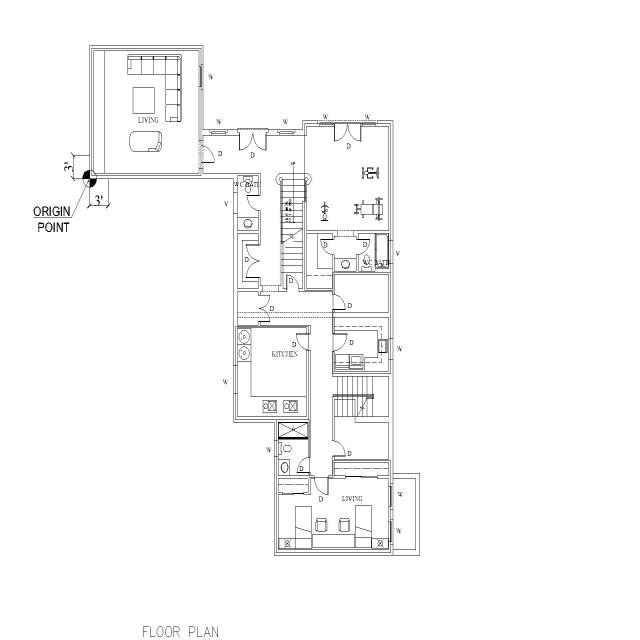Column: (174, 157, 197, 169)
Door: (211, 419, 226, 439), (138, 400, 144, 422), (188, 440, 208, 446), (226, 219, 245, 225), (322, 273, 341, 279), (252, 168, 256, 196), (350, 245, 354, 273), (181, 376, 185, 401), (460, 300, 464, 325), (296, 515, 318, 519), (272, 274, 292, 278), (185, 370, 204, 374), (181, 326, 184, 348), (167, 282, 170, 304), (266, 428, 284, 431), (196, 274, 198, 296)
Opening: (278, 377, 336, 389), (326, 460, 334, 512), (288, 428, 326, 438), (174, 210, 197, 222)
Sliding Door: (144, 440, 180, 444)
Ventilator: (138, 320, 143, 338)
Window: (138, 224, 143, 270), (224, 270, 247, 280), (180, 41, 215, 47), (459, 376, 464, 410), (252, 52, 258, 80), (394, 146, 421, 152), (138, 497, 143, 526), (252, 127, 257, 155), (293, 274, 321, 279), (147, 532, 170, 538), (160, 41, 180, 47), (138, 56, 144, 76), (215, 41, 234, 47), (374, 146, 392, 152), (423, 147, 441, 153), (385, 532, 406, 537), (260, 237, 265, 257), (138, 128, 143, 148), (363, 532, 383, 537), (249, 532, 270, 536), (226, 533, 247, 537), (138, 374, 142, 394), (460, 282, 464, 300), (460, 326, 464, 344), (434, 442, 438, 460), (434, 514, 438, 532)
